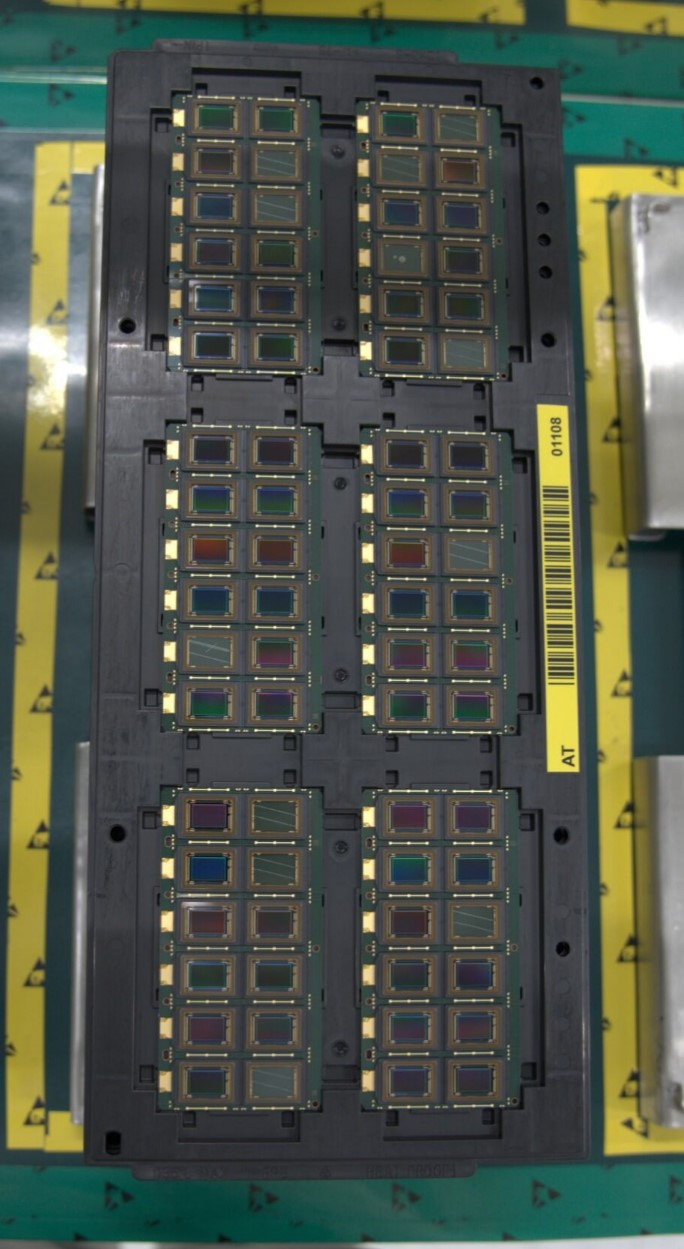Bad_mark_from_BMS_mold: (240, 1059, 303, 1104), (246, 847, 306, 892), (440, 533, 499, 578), (445, 899, 504, 944), (245, 795, 305, 838), (180, 629, 238, 673), (436, 333, 493, 373), (373, 148, 426, 188), (432, 107, 486, 146), (249, 191, 303, 229), (250, 144, 302, 183)
Bad_mark_from_Maker: (374, 237, 429, 277)
